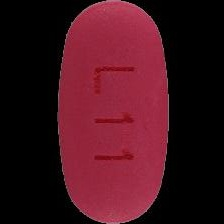68180-160: (0, 0, 224, 224)
